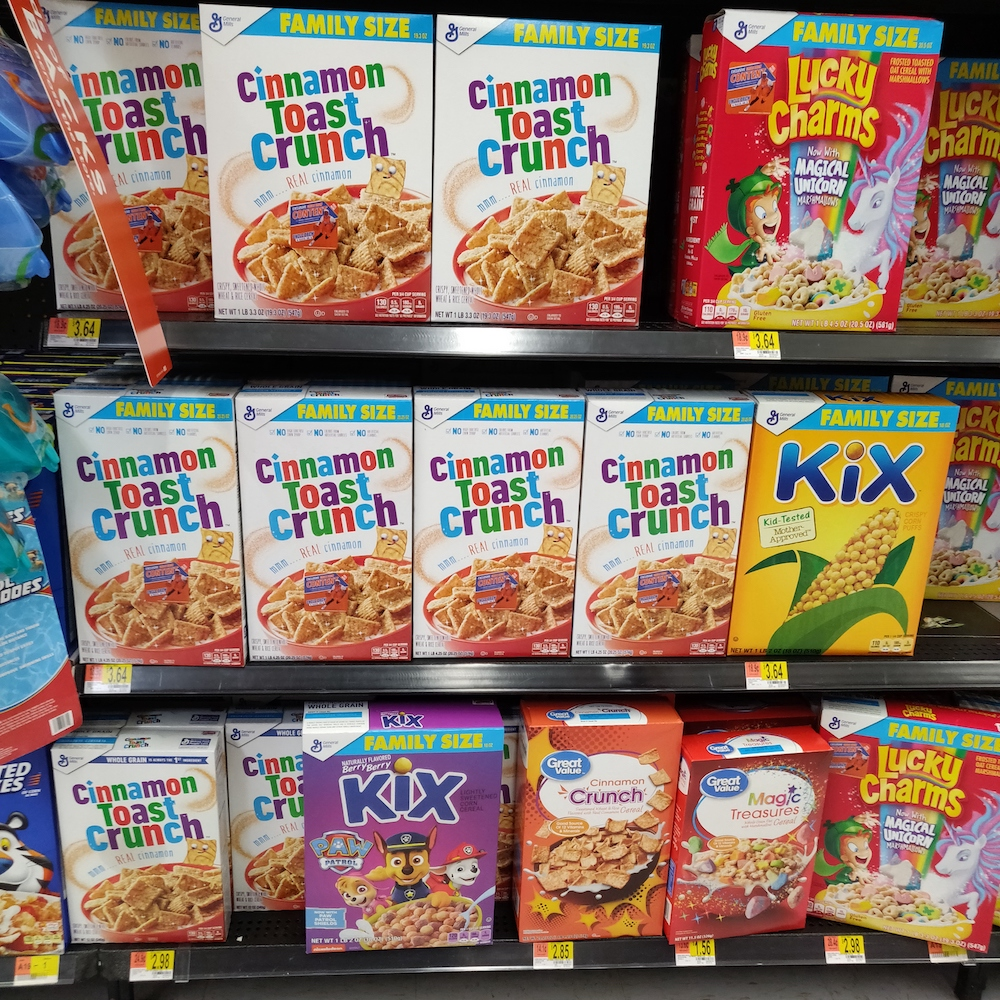Kix Berry -568919964: (303, 738, 507, 935)
Kix Crispy Corn-550051312: (756, 402, 941, 664)
